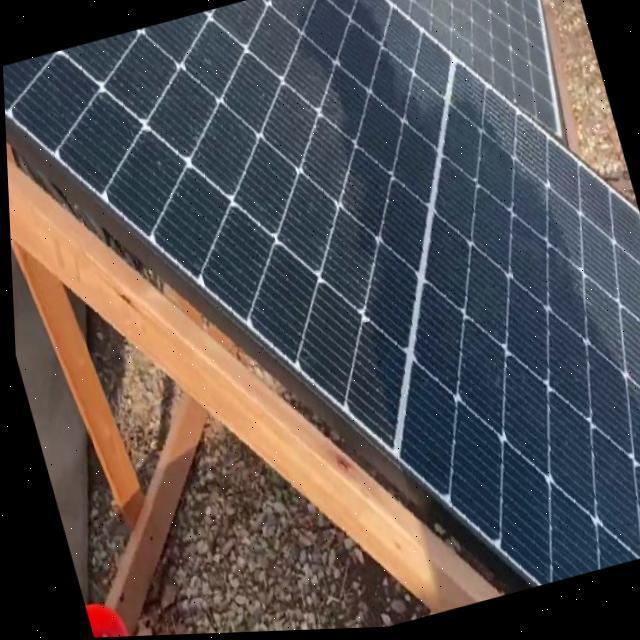Normal Solar Panel: (0, 0, 640, 640), (326, 0, 578, 189)
